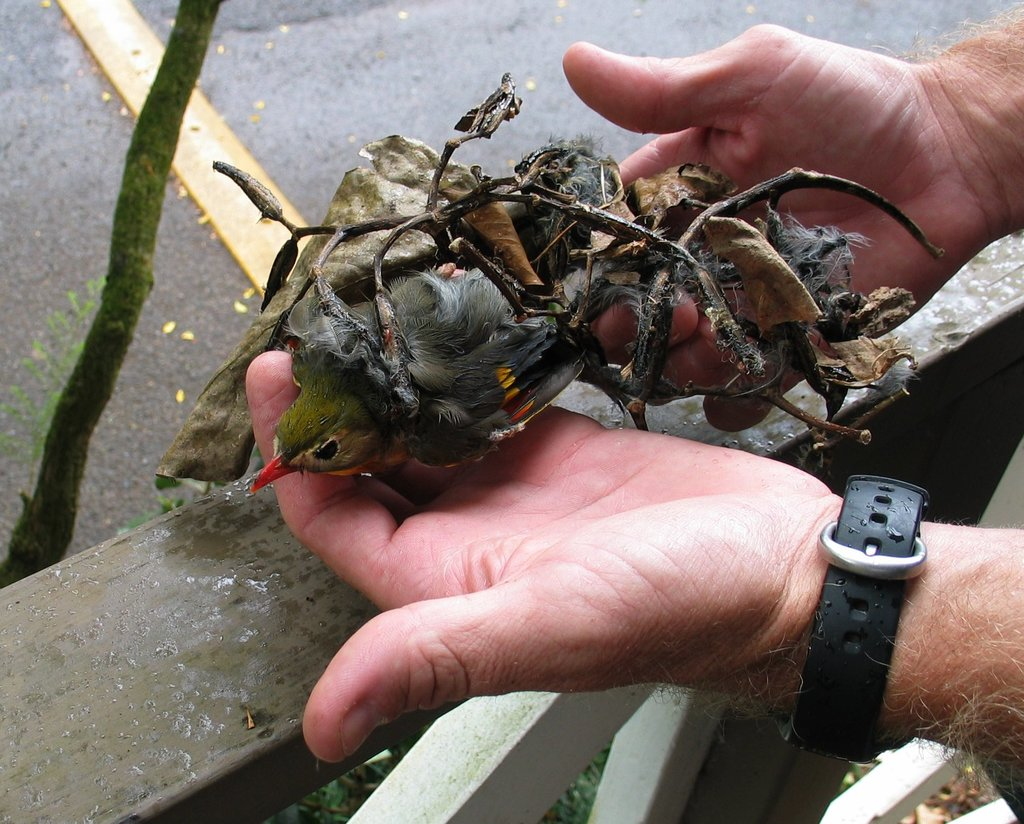Animal: (248, 135, 871, 493)
